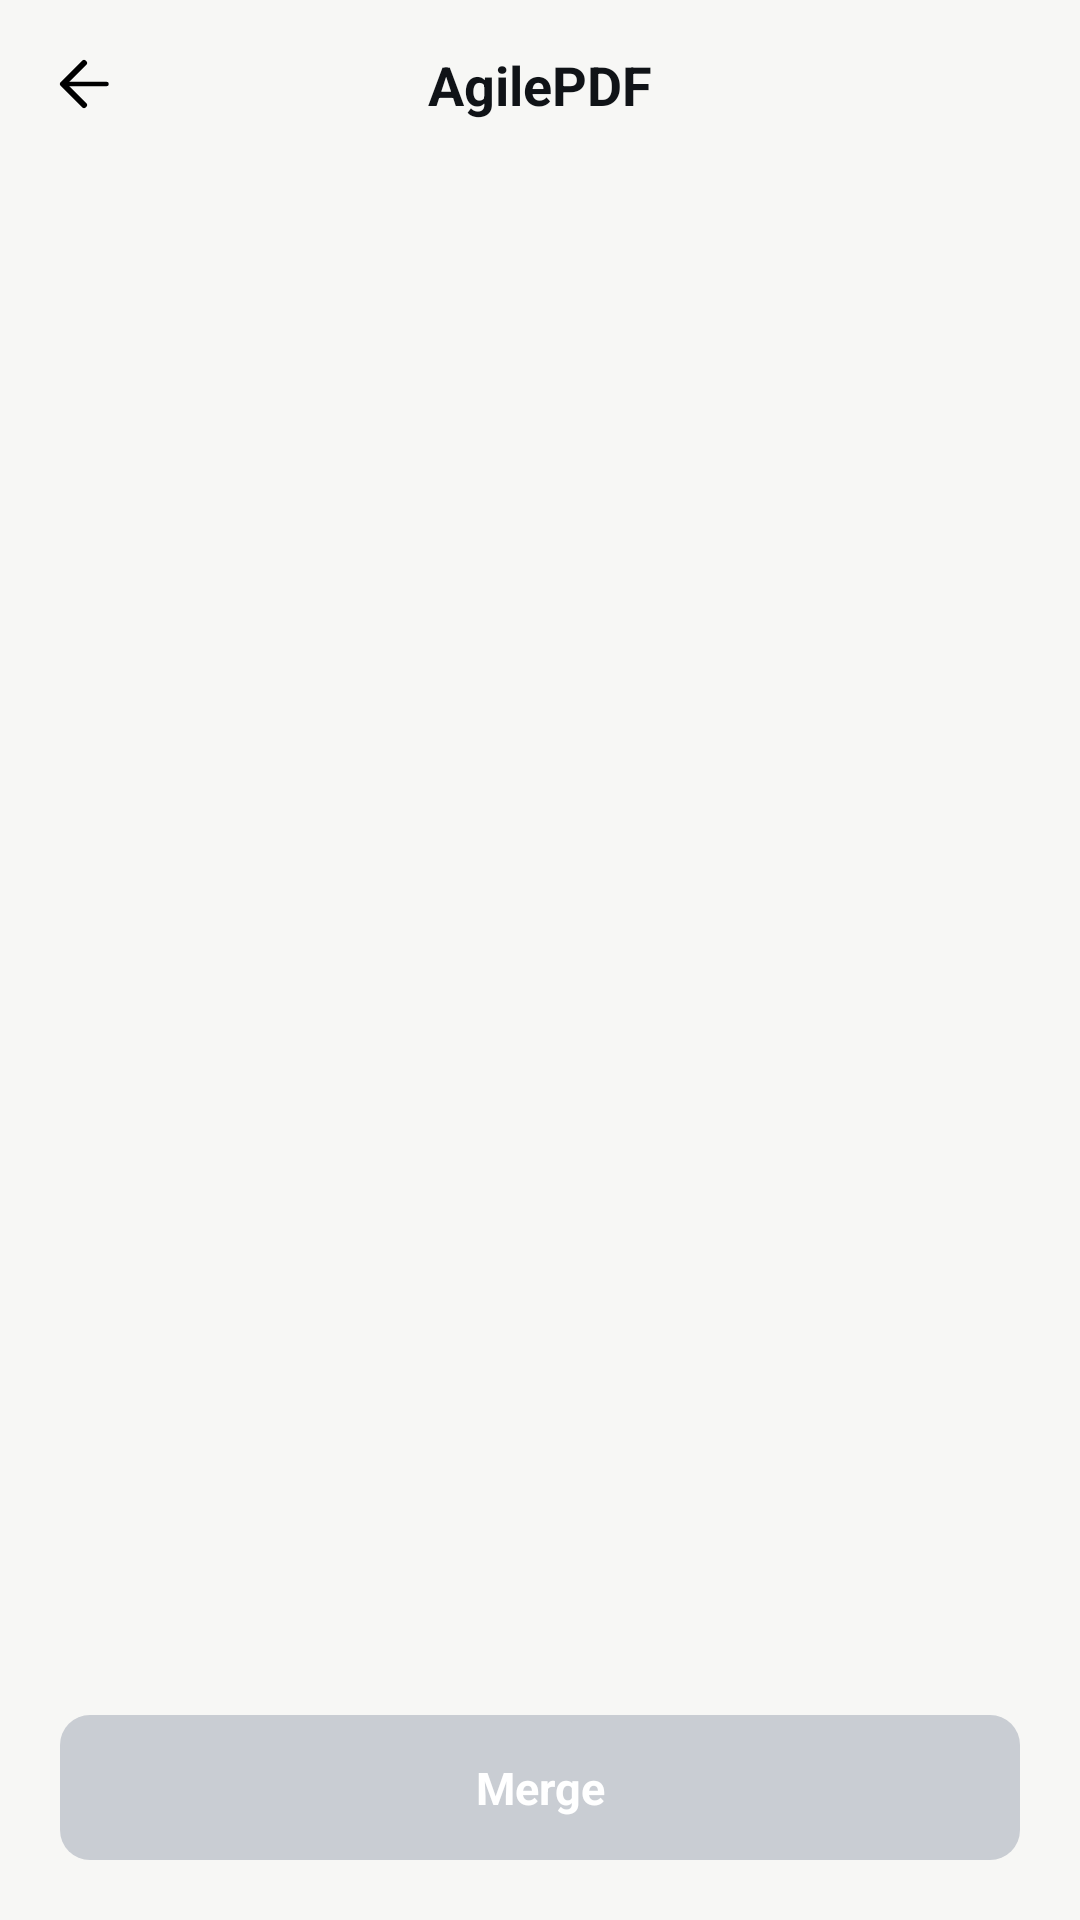

Where icons sit on this 1080*1920 app screen, as (left=x1, top=y1, right=x2, bottom=y2):
go back: (left=60, top=60, right=109, bottom=108)
